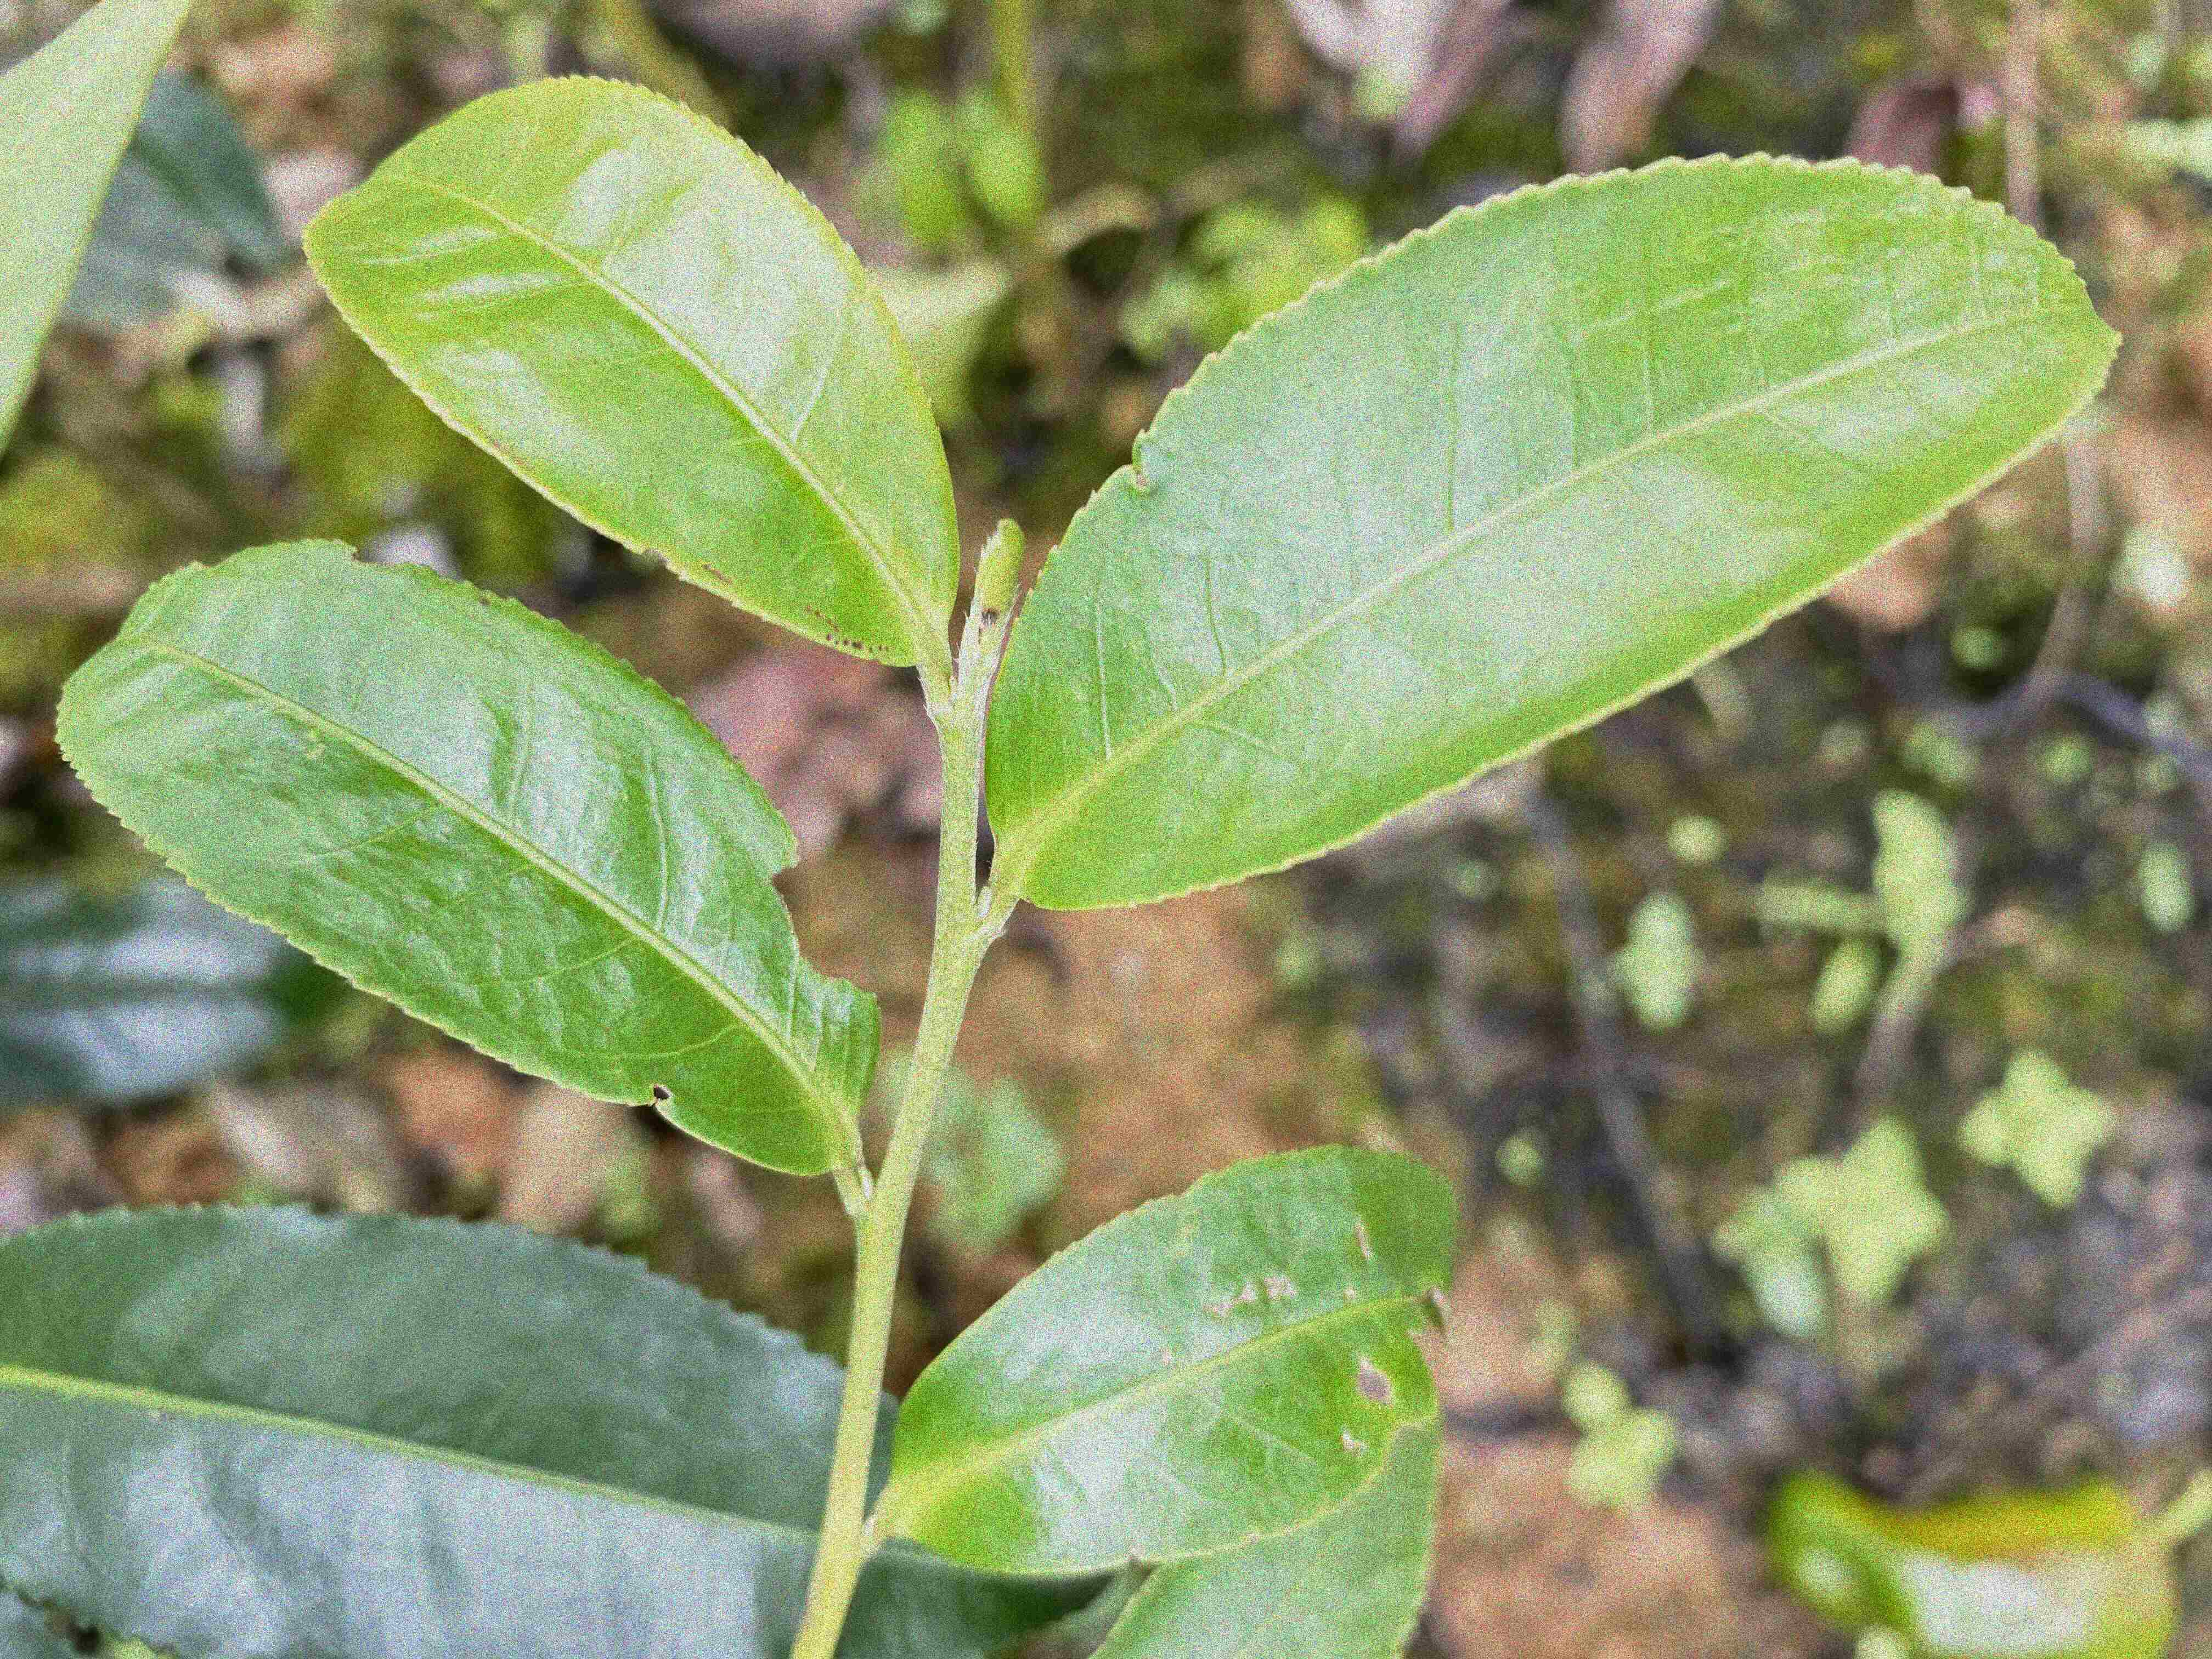chihuo_high: (52, 533, 885, 1176), (887, 1141, 1463, 1577)
healthy: (2, 1204, 1024, 1657)
tanju_low: (982, 148, 2127, 911)
